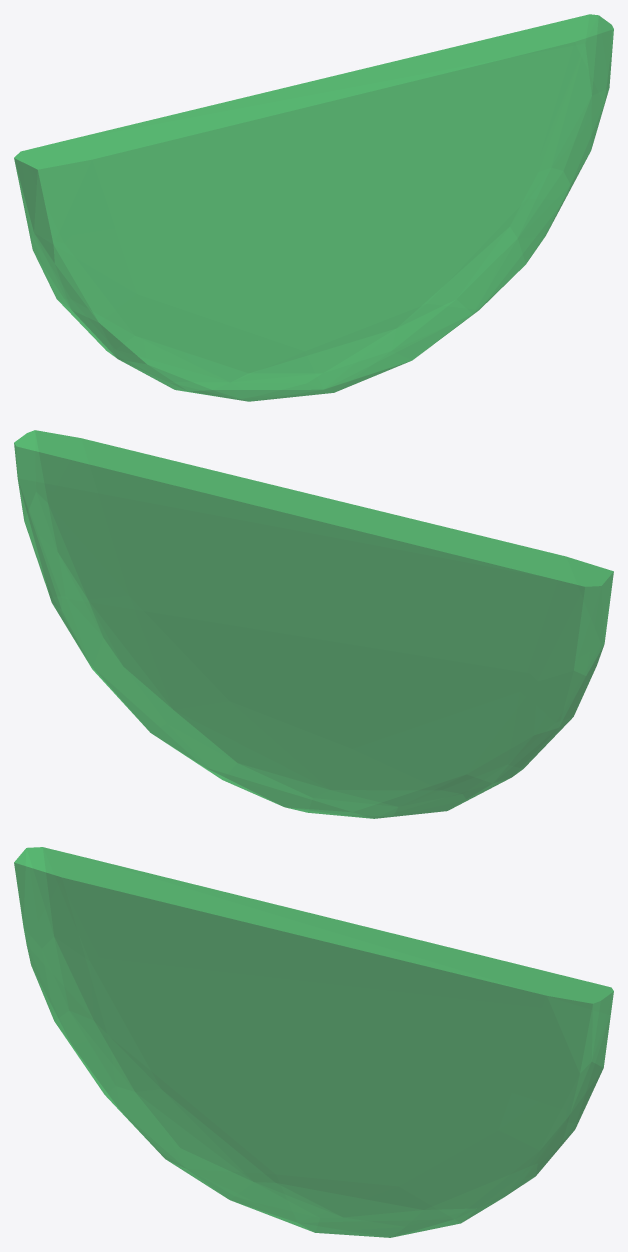
The picture shows the model from 3 angles, top to bottom: view 1: azimuth 30°, elevation 25°; view 2: azimuth 150°, elevation 25°; view 3: azimuth 330°, elevation 25°; orthographic projection.
Parts seen in each view (by area): view 1: Shape_IndexedFaceSet.001_Shape_IndexedFaceSet.8659; view 2: Shape_IndexedFaceSet.001_Shape_IndexedFaceSet.8659; view 3: Shape_IndexedFaceSet.001_Shape_IndexedFaceSet.8659.
Boxes of the visible parts, x1=… form: Shape_IndexedFaceSet.001_Shape_IndexedFaceSet.8659: x1=14, y1=14, x2=613, y2=401; Shape_IndexedFaceSet.001_Shape_IndexedFaceSet.8659: x1=14, y1=430, x2=613, y2=818; Shape_IndexedFaceSet.001_Shape_IndexedFaceSet.8659: x1=14, y1=847, x2=613, y2=1237.
Size of the model in its own units: 0.1197 by 0.0581 by 0.00988.
